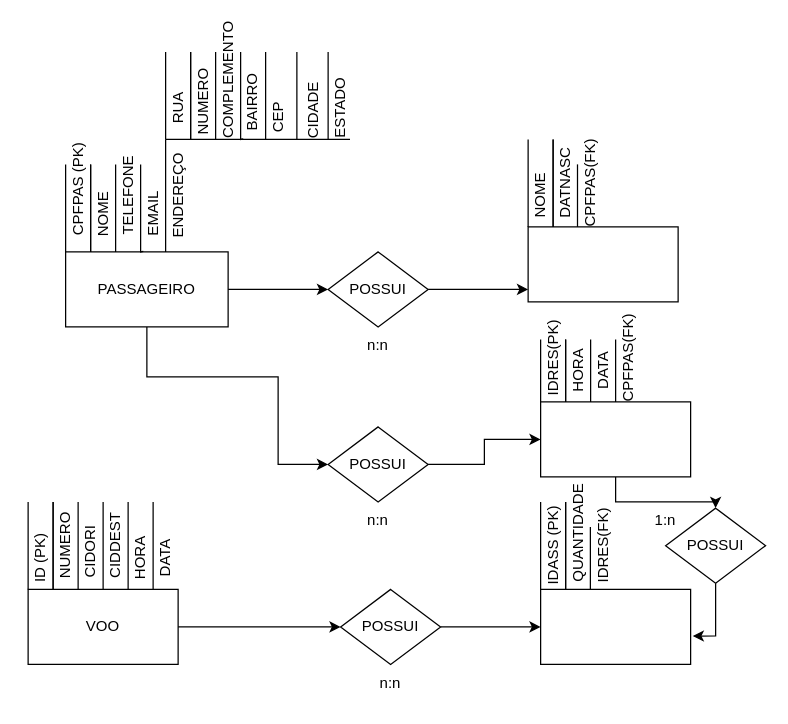
The diagram is 788 pixels wide and 724 high, and some of its shapes have lost their labels. The centre of each missing label's shape, as x and y in pixels:
ASSENTO: the point at 615,626
DEPENDENTE: the point at 602,264
RESERVA: the point at 615,439
